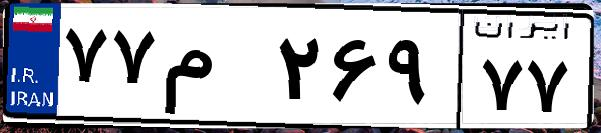2: (270, 28, 330, 110)
6: (330, 28, 385, 110)
7: (57, 26, 110, 100), (475, 38, 525, 113), (525, 38, 570, 115), (110, 28, 158, 98)
9: (385, 28, 445, 110)
م: (158, 20, 270, 120)
